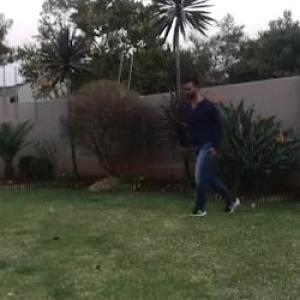follow: (183, 66, 226, 215)
